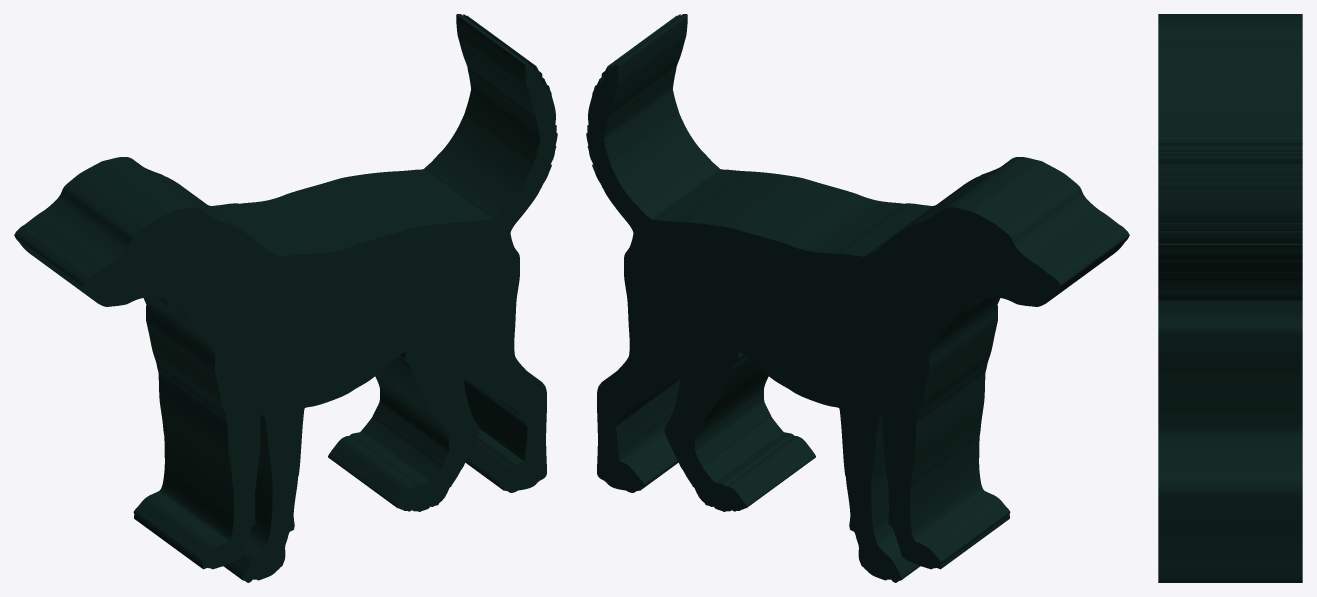
File: the_hounds.obj
3 renders of one model, left to right at view 1: azimuth 30°, elevation 25°; view 2: azimuth 150°, elevation 25°; view 3: azimuth 270°, elevation 25°, orthographic. The views are drawn at different scales.
Parts seen in each view (by area): view 1: Curve_Mesh; view 2: Curve_Mesh; view 3: Curve_Mesh.
Boxes of the visible parts, x1,y1,x2,y2 form: Curve_Mesh: (14,14,557,582); Curve_Mesh: (586,14,1129,582); Curve_Mesh: (1158,14,1302,582).
Size of the model in its own units: 0.714 by 0.6482 by 0.18.
